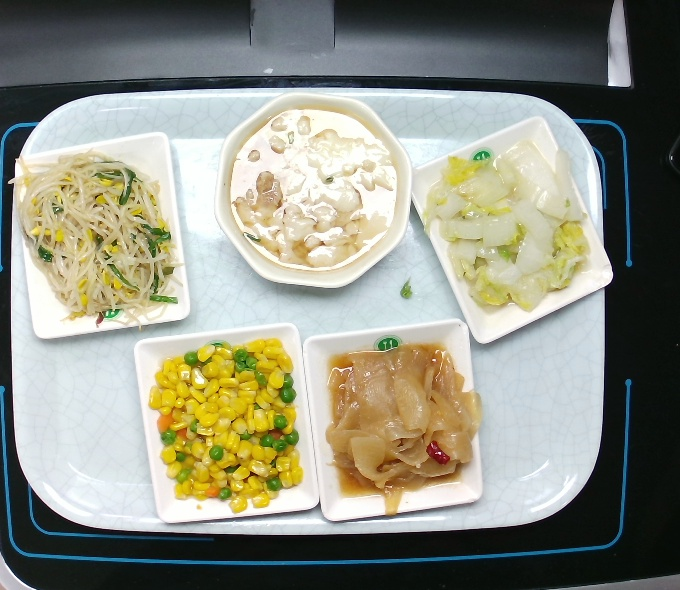wcq-DaBaiCai: (415, 137, 598, 321)
wcq-DongGua: (317, 336, 488, 519)
wcq-DouYa: (3, 141, 193, 336)
wcq-ShuiZhengDan: (222, 97, 408, 279)
wcq-TianMiTianDou: (144, 335, 309, 518)
